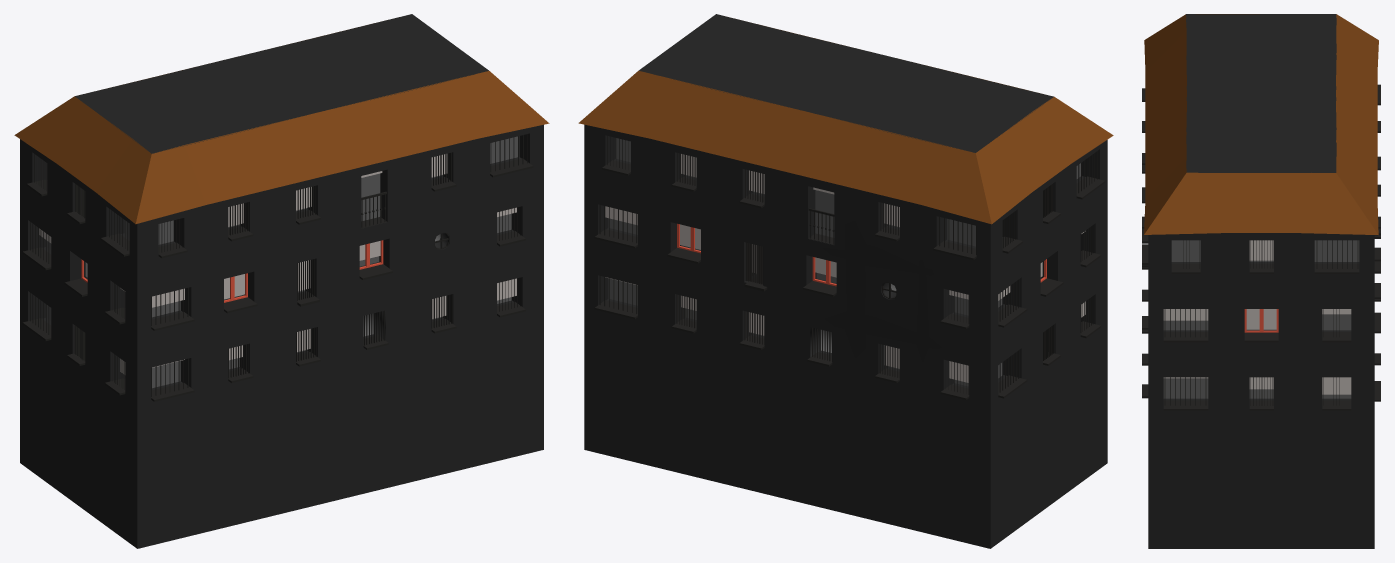
Rendered from casa_procedural_relleno_Con sotano_8.fbx.
3 views of the same model, side by side, from view 1: azimuth 30°, elevation 25°; view 2: azimuth 150°, elevation 25°; view 3: azimuth 270°, elevation 25° (orthographic). The views are drawn at different scales.
Parts seen in each view (by area): view 1: casa procedural_relleno_Con sotano_8; view 2: casa procedural_relleno_Con sotano_8; view 3: casa procedural_relleno_Con sotano_8.
Boxes of the visible parts, bbox=[...] form: casa procedural_relleno_Con sotano_8: bbox=[14, 14, 549, 548]; casa procedural_relleno_Con sotano_8: bbox=[578, 14, 1113, 548]; casa procedural_relleno_Con sotano_8: bbox=[1142, 14, 1380, 548].
Size of the model in its own units: 616 by 526 by 316.
